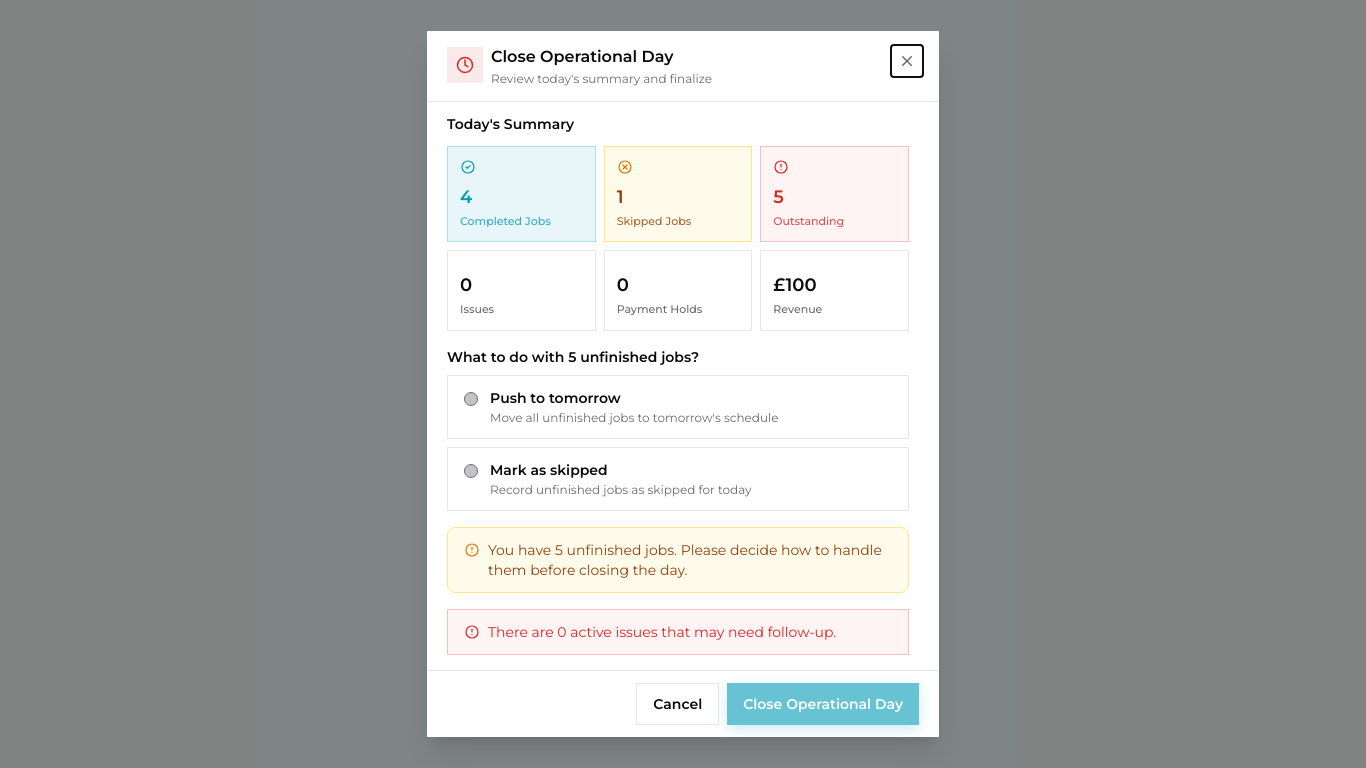
it: Close day carryover (ACT-02..04) › shows plain text from Monday to Thursday and sends the next working day
Click the button "Push to tomorrow": (555,398) [447,375,909,439]
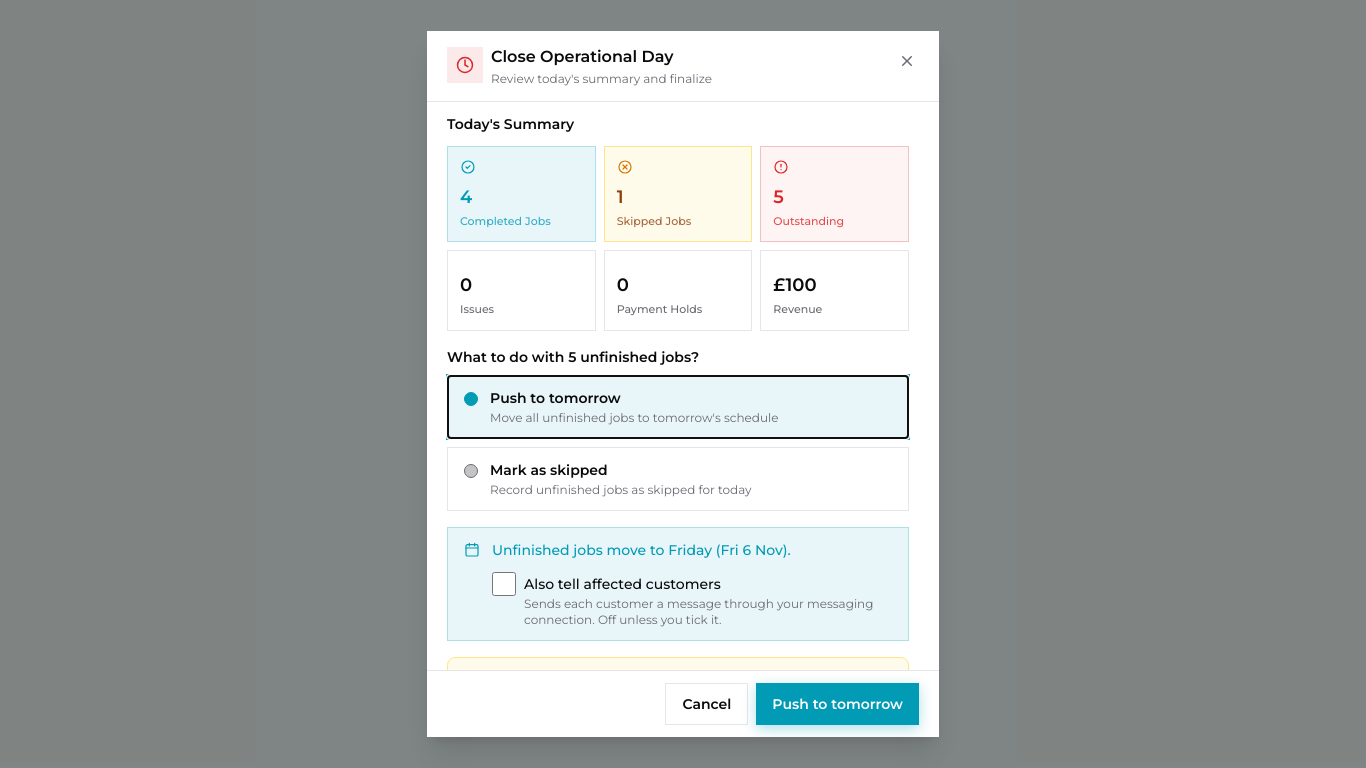
Result: the text "Unfinished jobs move to Friday (Fri 6 Nov)." is shown at [492,541,791,559]
Click the button "Push to tomorrow": (838,704) [756,683,919,725]
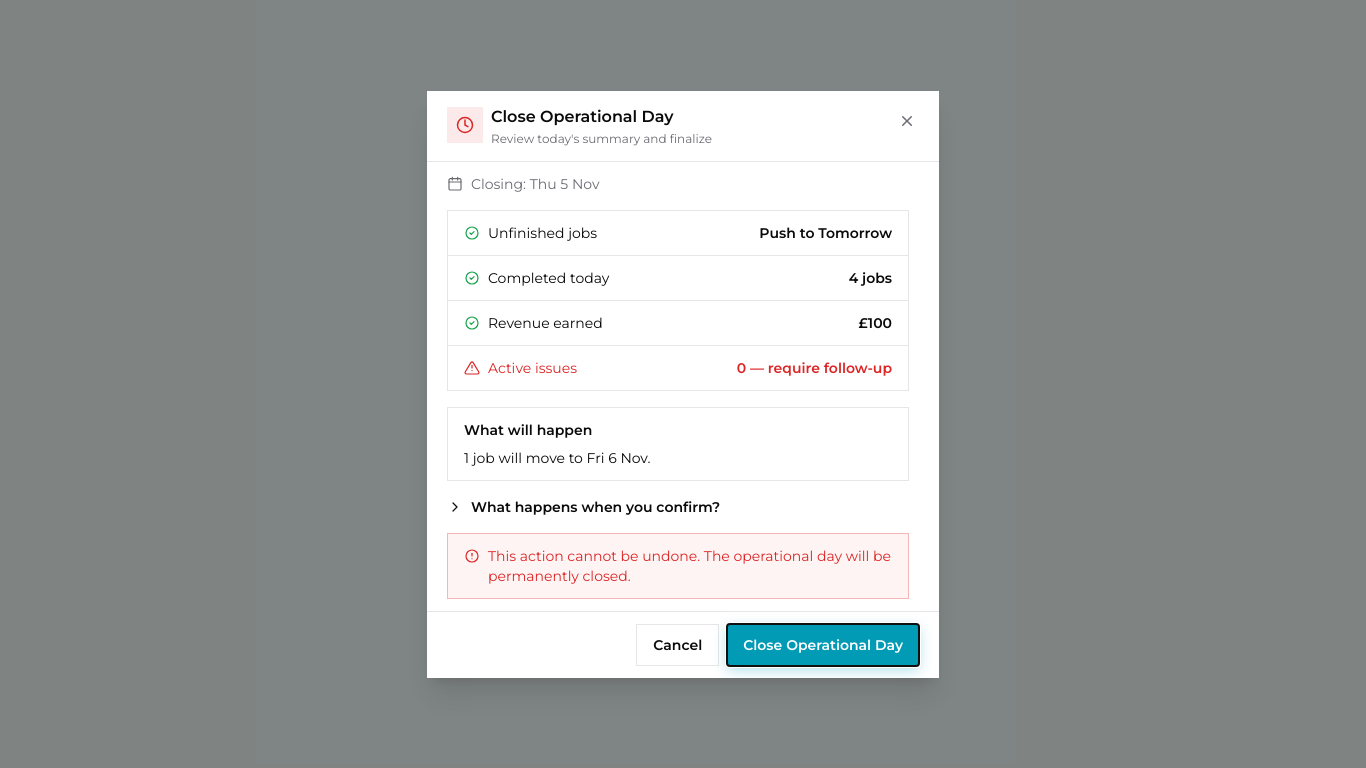
Result: the text "1 job will move to Fri 6 Nov." is shown at [464,448,650,466]
Click the button "Close Operational Day": (823,644) [727,624,919,666]
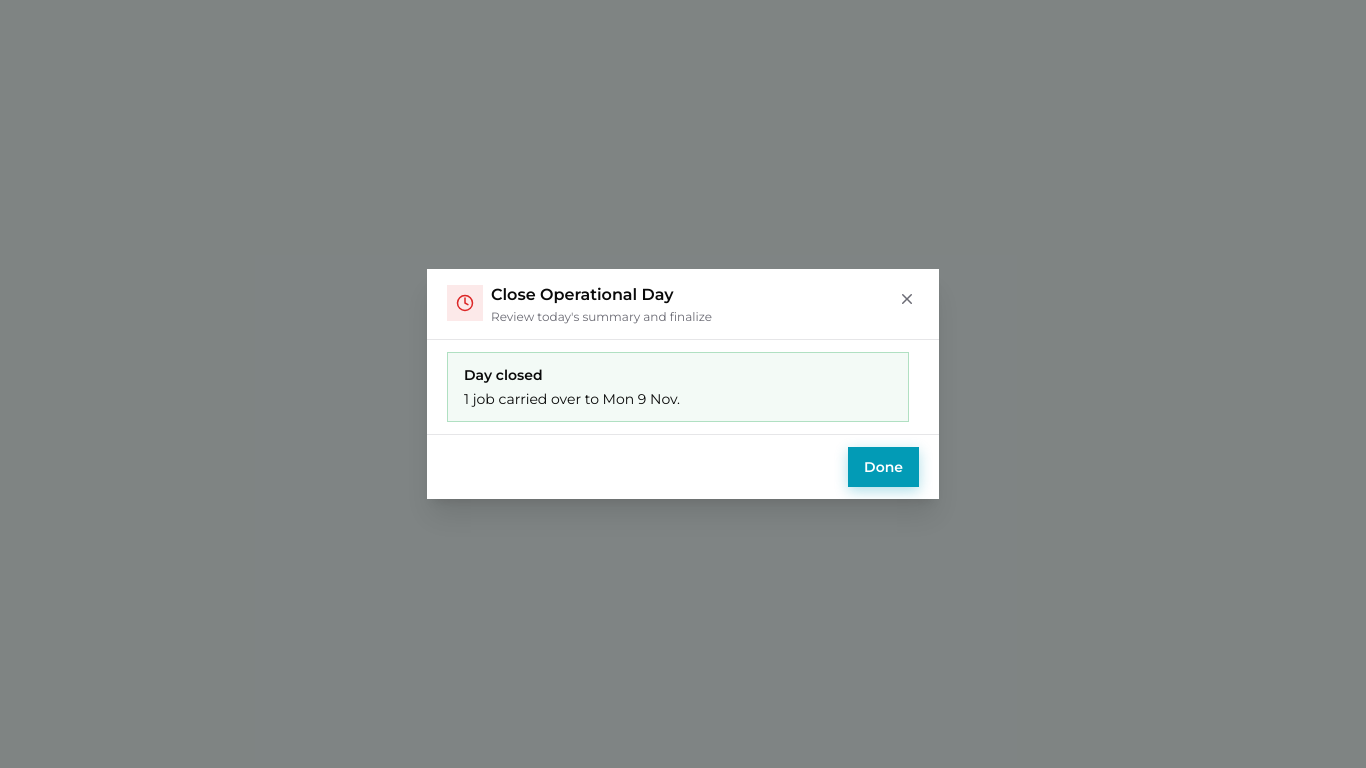
Result: the message shows "1 job carried over" at [464,390,680,408]
